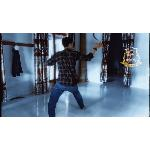Celurit: (89, 32, 110, 49)
